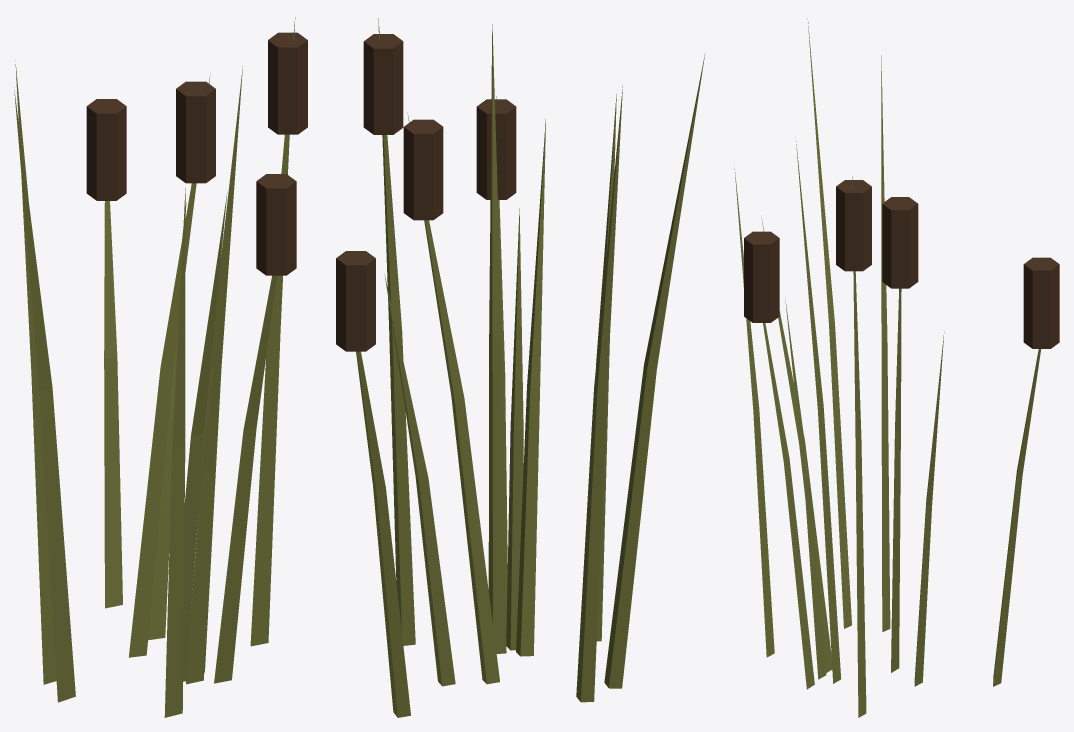
Rendered from reeds.glb.
The picture shows the model from 3 angles, left to right: view 1: azimuth 30°, elevation 25°; view 2: azimuth 150°, elevation 25°; view 3: azimuth 270°, elevation 25°; orthographic projection. The views are drawn at different scales.
Visible parts, largest first — view 1: reeds; view 2: reeds; view 3: reeds.
Part boxes in pixels (<box>): reeds: <box>14,17,307,717</box>; reeds: <box>336,18,705,717</box>; reeds: <box>734,18,1059,717</box>.
Size of the model in its own units: 0.9066 by 1.78 by 0.9042.
